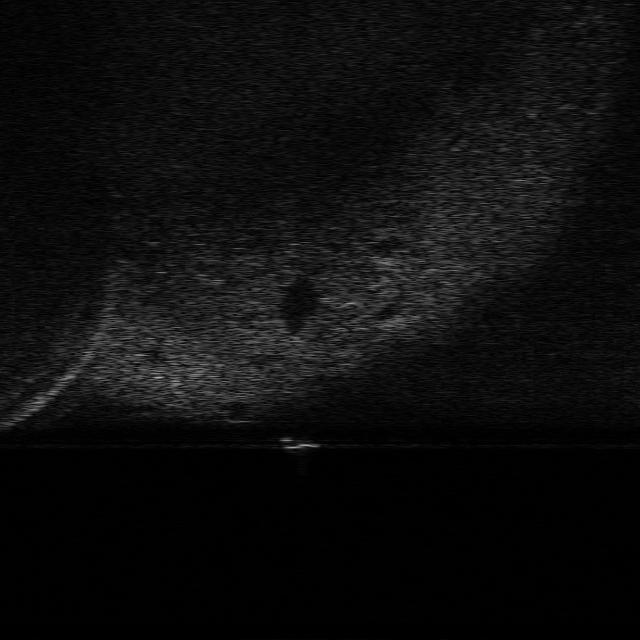cube: (274, 432, 321, 453)
